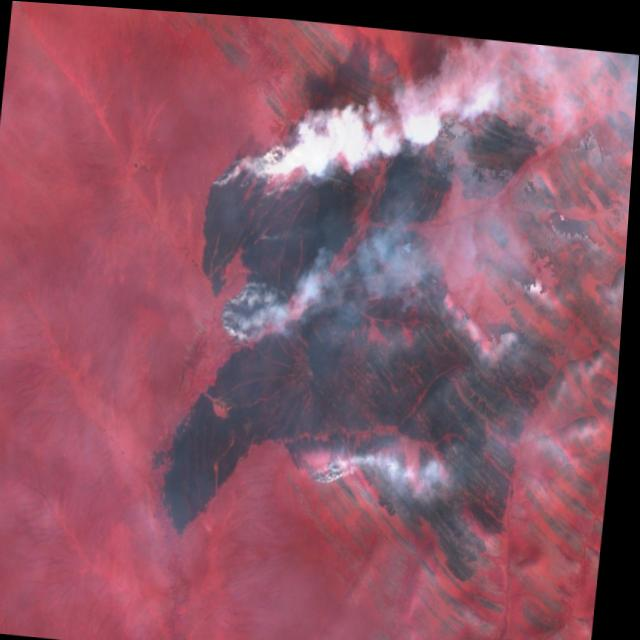fire: (193, 110, 323, 362), (309, 441, 363, 495)
